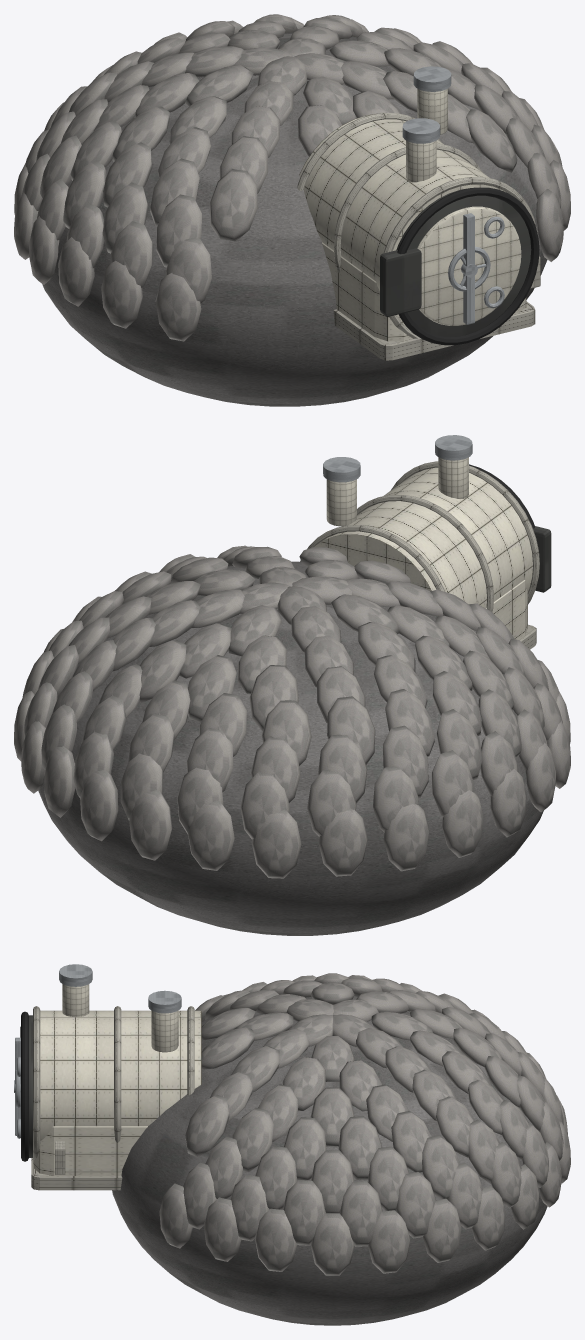
Rendered from shelter.glb.
3 views of the same model, one above another, from view 1: azimuth 30°, elevation 25°; view 2: azimuth 150°, elevation 25°; view 3: azimuth 270°, elevation 25° (orthographic). The views are drawn at different scales.
Visible parts, largest first — view 1: Sphere; view 2: Sphere; view 3: Sphere.
Part boxes in pixels (bbox=[...]): Sphere: bbox=[14, 14, 570, 406]; Sphere: bbox=[14, 435, 570, 935]; Sphere: bbox=[14, 964, 570, 1325].
Bounding box in the file's own units: 9.51 × 6.63 × 10.63.
Materials: 7 (6 with a texture image).
